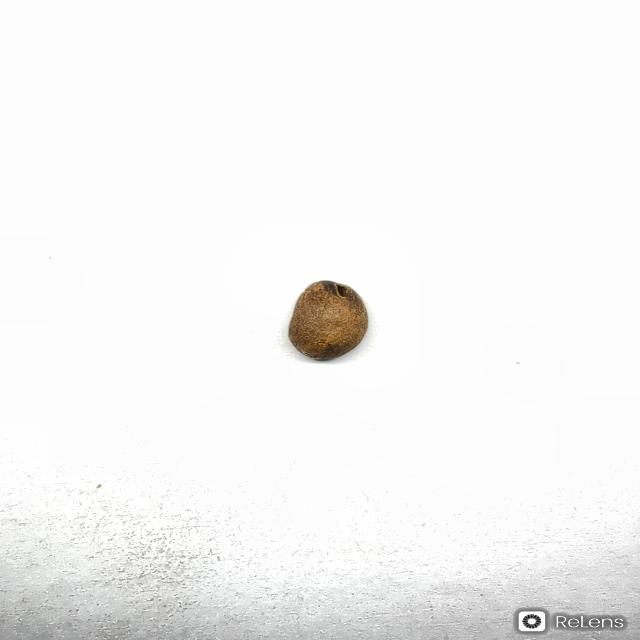Insect damage: (287, 279, 369, 360)
